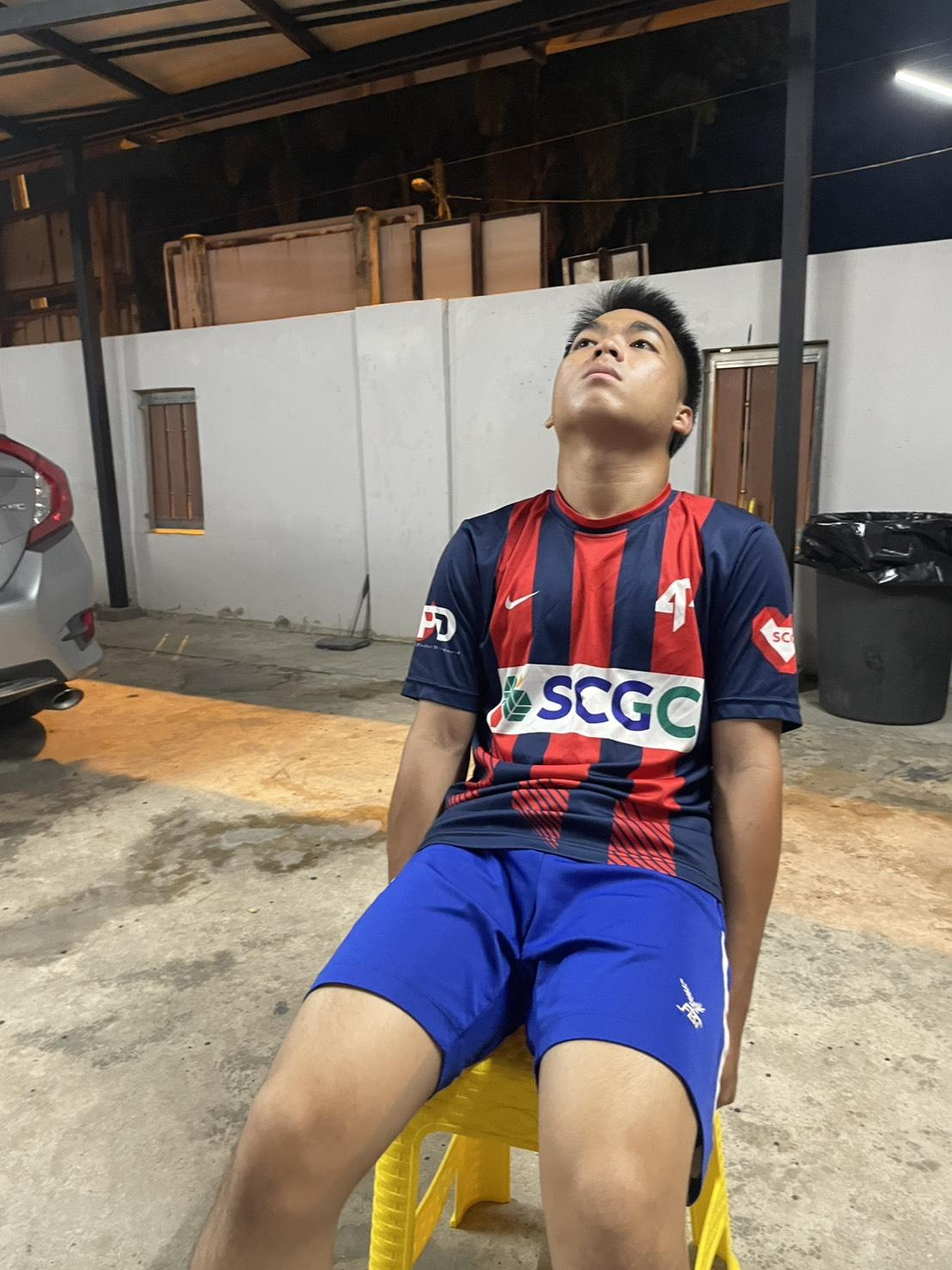BadPosture: (391, 279, 799, 906)
